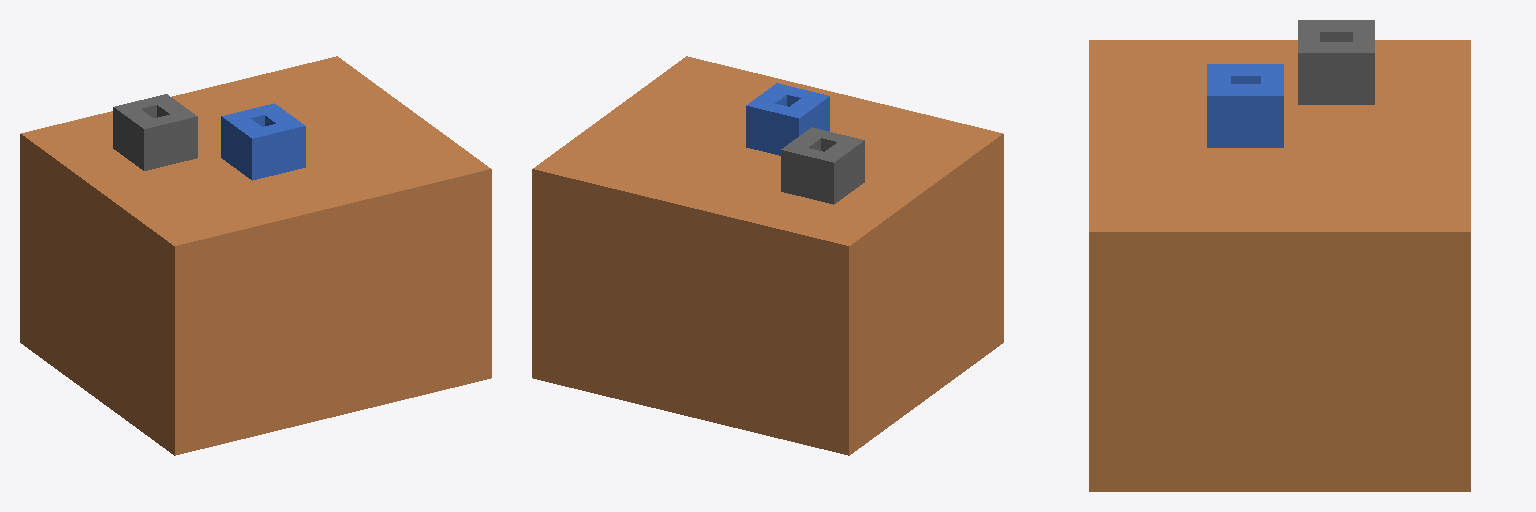
The robot description file, URDF, robot "peg_in_hole_fixtured_scene_0011_peg0009_tol01":
<?xml version="1.0"?>
<robot name="peg_in_hole_fixtured_scene_0011_peg0009_tol01">
  <material name="wood"><color rgba="0.82 0.56 0.35 1.0"/></material>
  <material name="start_fix"><color rgba="0.30 0.50 0.85 1.0"/></material>
  <material name="goal_fix"><color rgba="0.4706 0.4706 0.4706 1.0"/></material>
  <link name="box">
    <visual>
      <origin xyz="0.000000 0.000000 0.000000" rpy="0 0 0"/>
      <geometry><box size="0.475000 0.400000 0.300000"/></geometry>
      <material name="wood"/>
    </visual>
    <collision>
      <origin xyz="0.000000 0.000000 0.000000" rpy="0 0 0"/>
      <geometry><box size="0.475000 0.400000 0.300000"/></geometry>
    </collision>
    <visual>
      <origin xyz="-0.009515 -0.035892 0.155000" rpy="0 0 0"/>
      <geometry><box size="0.080000 0.080000 0.010000"/></geometry>
      <material name="start_fix"/>
    </visual>
    <collision>
      <origin xyz="-0.009515 -0.035892 0.155000" rpy="0 0 0"/>
      <geometry><box size="0.080000 0.080000 0.010000"/></geometry>
    </collision>
    <visual>
      <origin xyz="0.015735 -0.035892 0.185000" rpy="0 0 0"/>
      <geometry><box size="0.029500 0.080000 0.050000"/></geometry>
      <material name="start_fix"/>
    </visual>
    <collision>
      <origin xyz="0.015735 -0.035892 0.185000" rpy="0 0 0"/>
      <geometry><box size="0.029500 0.080000 0.050000"/></geometry>
    </collision>
    <visual>
      <origin xyz="-0.034765 -0.035892 0.185000" rpy="0 0 0"/>
      <geometry><box size="0.029500 0.080000 0.050000"/></geometry>
      <material name="start_fix"/>
    </visual>
    <collision>
      <origin xyz="-0.034765 -0.035892 0.185000" rpy="0 0 0"/>
      <geometry><box size="0.029500 0.080000 0.050000"/></geometry>
    </collision>
    <visual>
      <origin xyz="-0.009515 -0.008142 0.185000" rpy="0 0 0"/>
      <geometry><box size="0.021000 0.024500 0.050000"/></geometry>
      <material name="start_fix"/>
    </visual>
    <collision>
      <origin xyz="-0.009515 -0.008142 0.185000" rpy="0 0 0"/>
      <geometry><box size="0.021000 0.024500 0.050000"/></geometry>
    </collision>
    <visual>
      <origin xyz="-0.009515 -0.063642 0.185000" rpy="0 0 0"/>
      <geometry><box size="0.021000 0.024500 0.050000"/></geometry>
      <material name="start_fix"/>
    </visual>
    <collision>
      <origin xyz="-0.009515 -0.063642 0.185000" rpy="0 0 0"/>
      <geometry><box size="0.021000 0.024500 0.050000"/></geometry>
    </collision>
    <visual>
      <origin xyz="-0.116443 0.059220 0.155000" rpy="0 0 0"/>
      <geometry><box size="0.080000 0.080000 0.010000"/></geometry>
      <material name="goal_fix"/>
    </visual>
    <collision>
      <origin xyz="-0.116443 0.059220 0.155000" rpy="0 0 0"/>
      <geometry><box size="0.080000 0.080000 0.010000"/></geometry>
    </collision>
    <visual>
      <origin xyz="-0.090268 0.059220 0.185000" rpy="0 0 0"/>
      <geometry><box size="0.027650 0.080000 0.050000"/></geometry>
      <material name="goal_fix"/>
    </visual>
    <collision>
      <origin xyz="-0.090268 0.059220 0.185000" rpy="0 0 0"/>
      <geometry><box size="0.027650 0.080000 0.050000"/></geometry>
    </collision>
    <visual>
      <origin xyz="-0.142618 0.059220 0.185000" rpy="0 0 0"/>
      <geometry><box size="0.027650 0.080000 0.050000"/></geometry>
      <material name="goal_fix"/>
    </visual>
    <collision>
      <origin xyz="-0.142618 0.059220 0.185000" rpy="0 0 0"/>
      <geometry><box size="0.027650 0.080000 0.050000"/></geometry>
    </collision>
    <visual>
      <origin xyz="-0.116443 0.087895 0.185000" rpy="0 0 0"/>
      <geometry><box size="0.024700 0.022650 0.050000"/></geometry>
      <material name="goal_fix"/>
    </visual>
    <collision>
      <origin xyz="-0.116443 0.087895 0.185000" rpy="0 0 0"/>
      <geometry><box size="0.024700 0.022650 0.050000"/></geometry>
    </collision>
    <visual>
      <origin xyz="-0.116443 0.030545 0.185000" rpy="0 0 0"/>
      <geometry><box size="0.024700 0.022650 0.050000"/></geometry>
      <material name="goal_fix"/>
    </visual>
    <collision>
      <origin xyz="-0.116443 0.030545 0.185000" rpy="0 0 0"/>
      <geometry><box size="0.024700 0.022650 0.050000"/></geometry>
    </collision>
    <inertial>
      <mass value="500"/>
      <friction value="1.0"/>
      <inertia ixx="1000.0" ixy="0.0" ixz="0.0" iyy="1000.0" iyz="0.0" izz="1000.0"/>
    </inertial>
  </link>
</robot>

--- Render facts (derived) ---
3 views of the same robot in one strip: view 1: azimuth 30°, elevation 25°; view 2: azimuth 150°, elevation 25°; view 3: azimuth 270°, elevation 25° (orthographic).
Model peg_in_hole_fixtured_scene_0011_peg0009_tol01 with 1 links and 0 joints (none), rooted at box, posed every joint at zero.
Visible links, largest first — view 1: box; view 2: box; view 3: box.
Boxes of the visible links, left/top/right/bottom form: box: left=20, top=56, right=491, bottom=455; box: left=532, top=56, right=1003, bottom=455; box: left=1089, top=20, right=1470, bottom=491.
Size in the robot's own frame: 0.475 by 0.4 by 0.36 metres.
Geometry: primitives only (box / cylinder / sphere), no mesh files.
